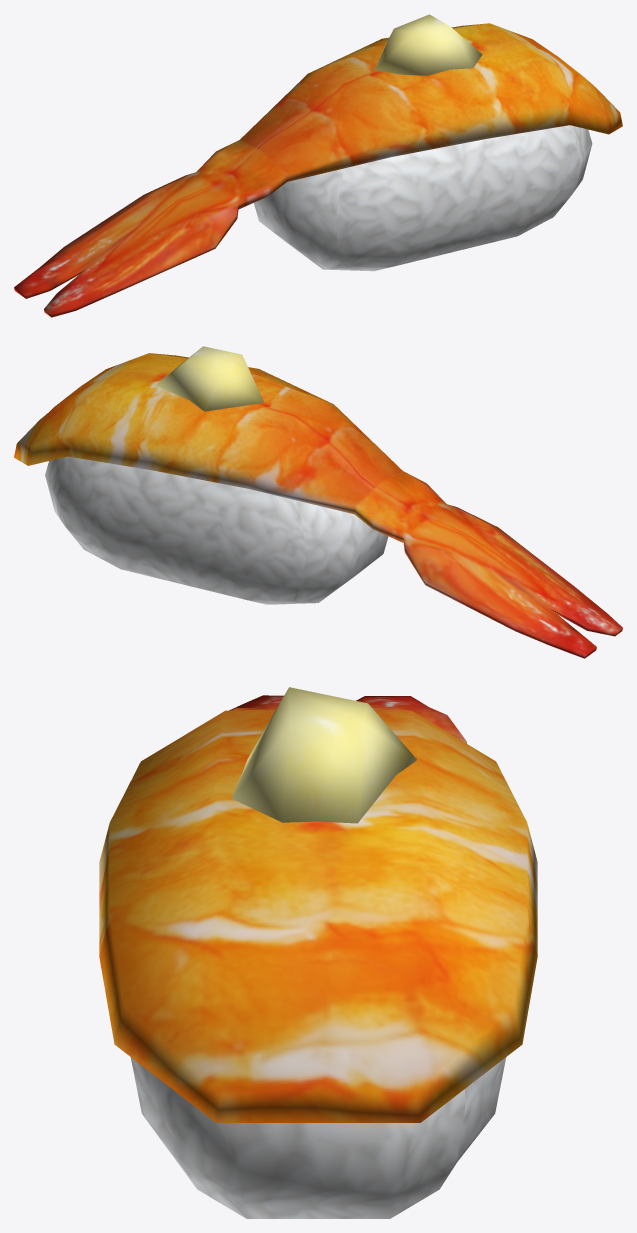
File: shrimp_2.fbx
3 renders of one model, top to bottom at view 1: azimuth 30°, elevation 25°; view 2: azimuth 150°, elevation 25°; view 3: azimuth 270°, elevation 25°, orthographic. The views are drawn at different scales.
Visible parts, largest first — view 1: shrimp_2; view 2: shrimp_2; view 3: shrimp_2.
Boxes of the visible parts, x1,y1,x2,y2 form: shrimp_2: (14, 14, 622, 317); shrimp_2: (14, 346, 622, 658); shrimp_2: (99, 687, 537, 1218).
Size of the model in its own units: 10.68 by 3.91 by 3.62.
